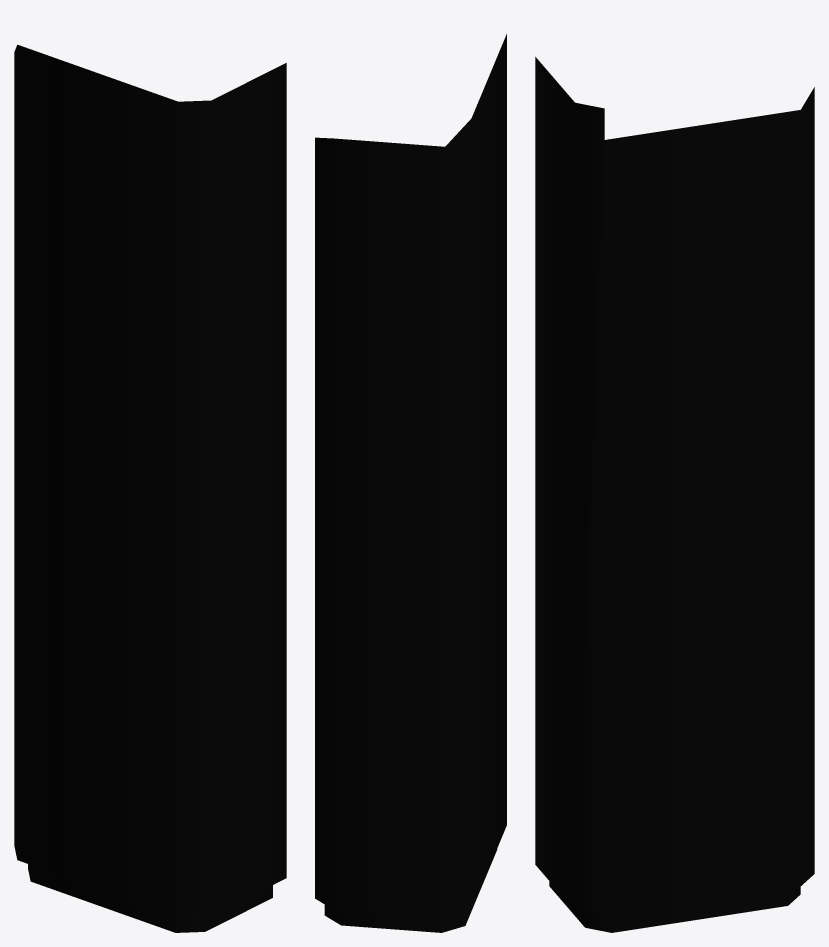
3 views of the same model, side by side, from view 1: azimuth 30°, elevation 25°; view 2: azimuth 150°, elevation 25°; view 3: azimuth 270°, elevation 25° (orthographic). The views are drawn at different scales.
Parts seen in each view (by area): view 1: Joint_0_Object_0, Joint_0_Object_1; view 2: Joint_0_Object_0, Joint_0_Object_1; view 3: Joint_0_Object_0, Joint_0_Object_1.
Part boxes in pixels (bbox=[...]): Joint_0_Object_0: bbox=[14, 44, 286, 917]; Joint_0_Object_1: bbox=[28, 864, 272, 932]; Joint_0_Object_0: bbox=[315, 34, 506, 917]; Joint_0_Object_1: bbox=[324, 849, 497, 932]; Joint_0_Object_0: bbox=[535, 57, 814, 916]; Joint_0_Object_1: bbox=[549, 881, 800, 932].
Bounding box in the file's own units: 96.56 × 395 × 120.
Materials: 2 (2 with a texture image).
